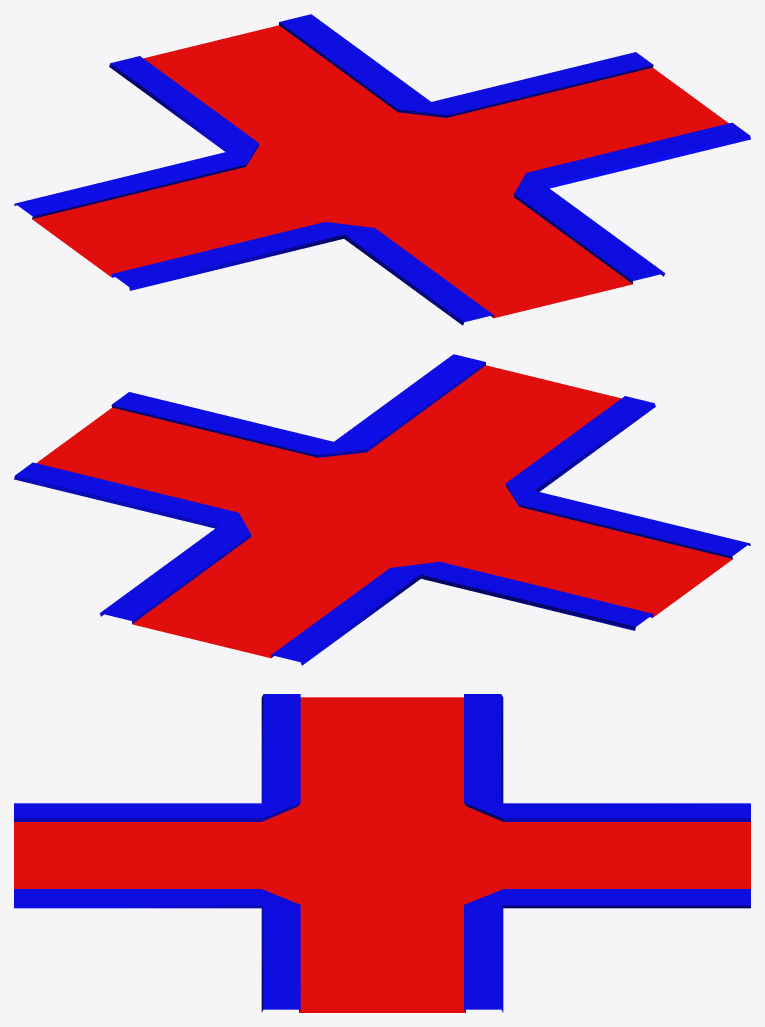
The model's file is SM_Crossroad.fbx.
The picture shows the model from 3 angles, top to bottom: view 1: azimuth 30°, elevation 25°; view 2: azimuth 150°, elevation 25°; view 3: azimuth 270°, elevation 25°; orthographic projection. The views are drawn at different scales.
Parts seen in each view (by area): view 1: SM_Crossroads; view 2: SM_Crossroads; view 3: SM_Crossroads.
Boxes of the visible parts, x1,y1,x2,y2 form: SM_Crossroads: [14, 14, 750, 325]; SM_Crossroads: [14, 354, 750, 665]; SM_Crossroads: [14, 694, 750, 1012].
Size of the model in its own units: 40.18 by 0.2019 by 39.67.
